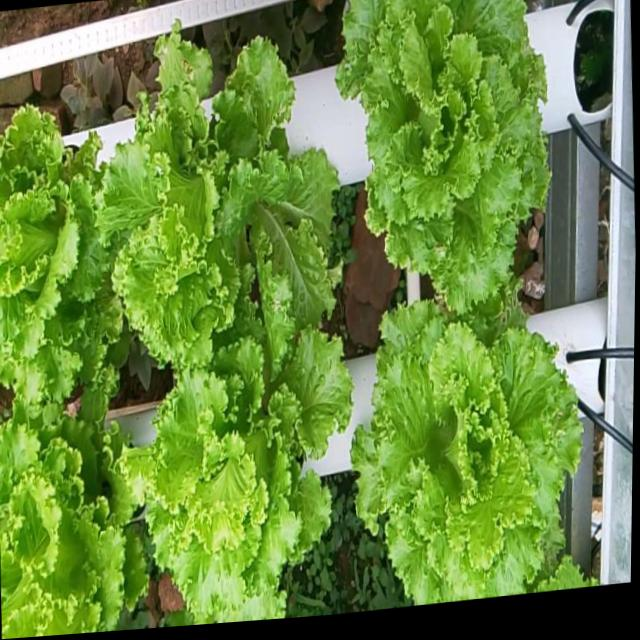Mature: (88, 21, 330, 361), (339, 294, 582, 605), (121, 303, 341, 624), (327, 0, 539, 309), (0, 390, 135, 639), (0, 90, 110, 390)
